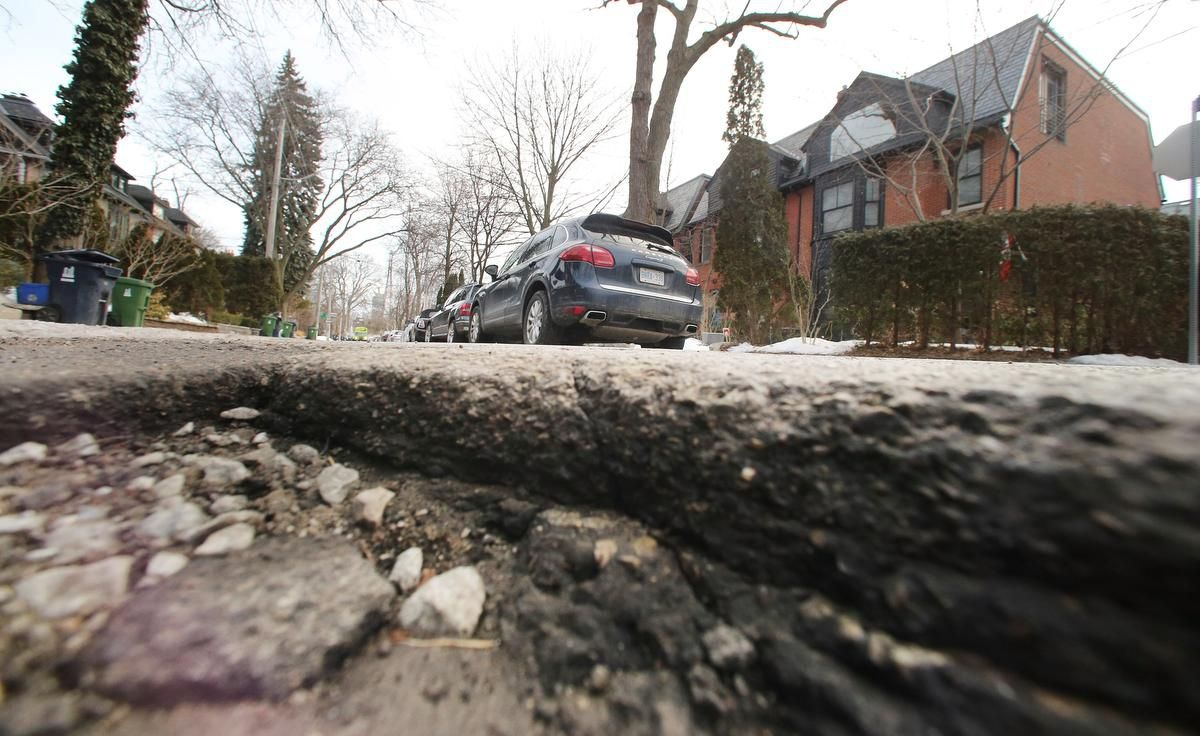pothole: (42, 299, 1134, 717)
